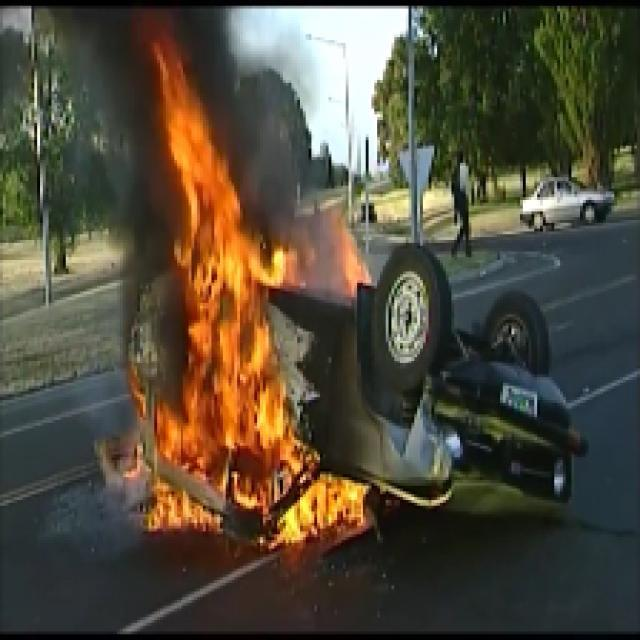Fire: (103, 17, 443, 566)
Smoke: (43, 0, 168, 257)
